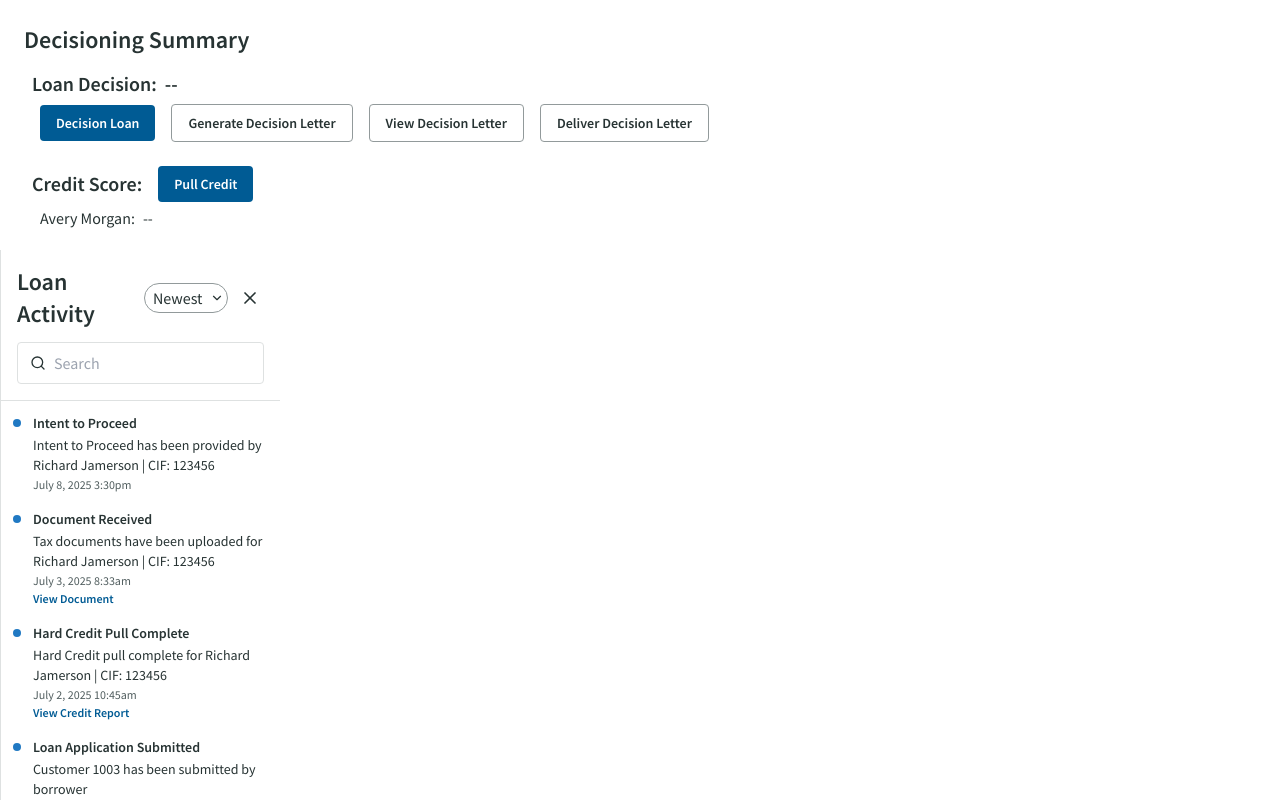
it: DecisioningSummaryContent checklist and activity wiring › uses a denied outcome in the display and activity
Click the button "Pull Credit".
click(206, 184)  # box [158, 166, 253, 202]
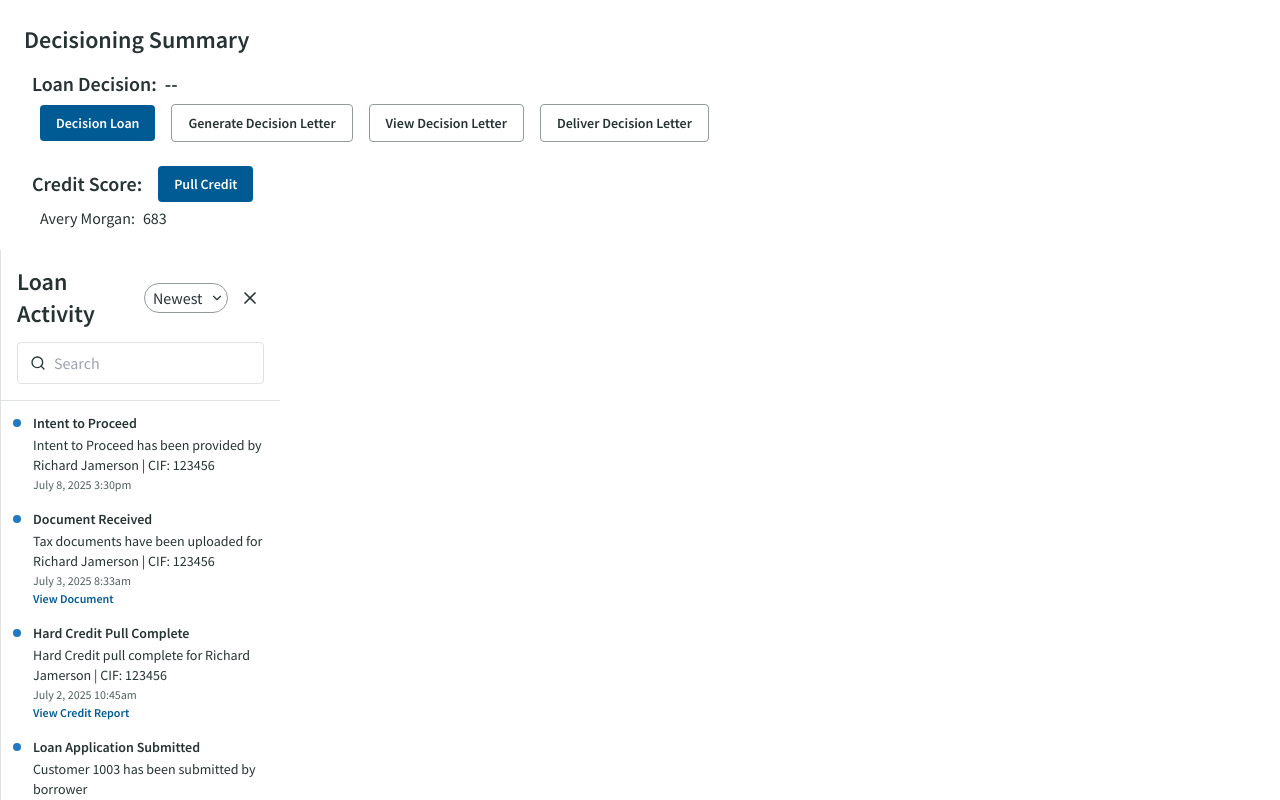
Click the button "Decision Loan".
click(98, 123)  # box [40, 105, 156, 141]
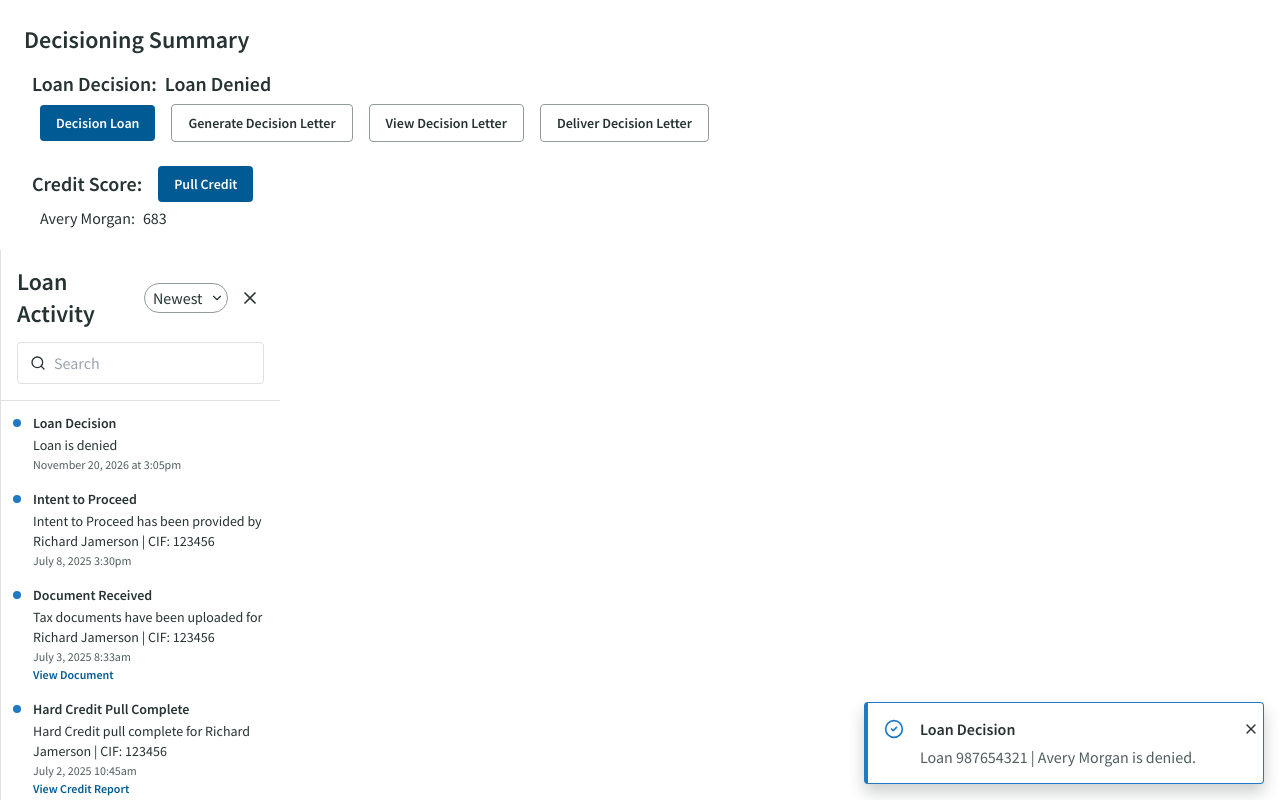
Expected: the text with test id "text-loan-decision-value" reads "Loan Denied", [165, 71, 271, 96]
Expected: the text "Loan is denied" is shown, [33, 436, 117, 454]
